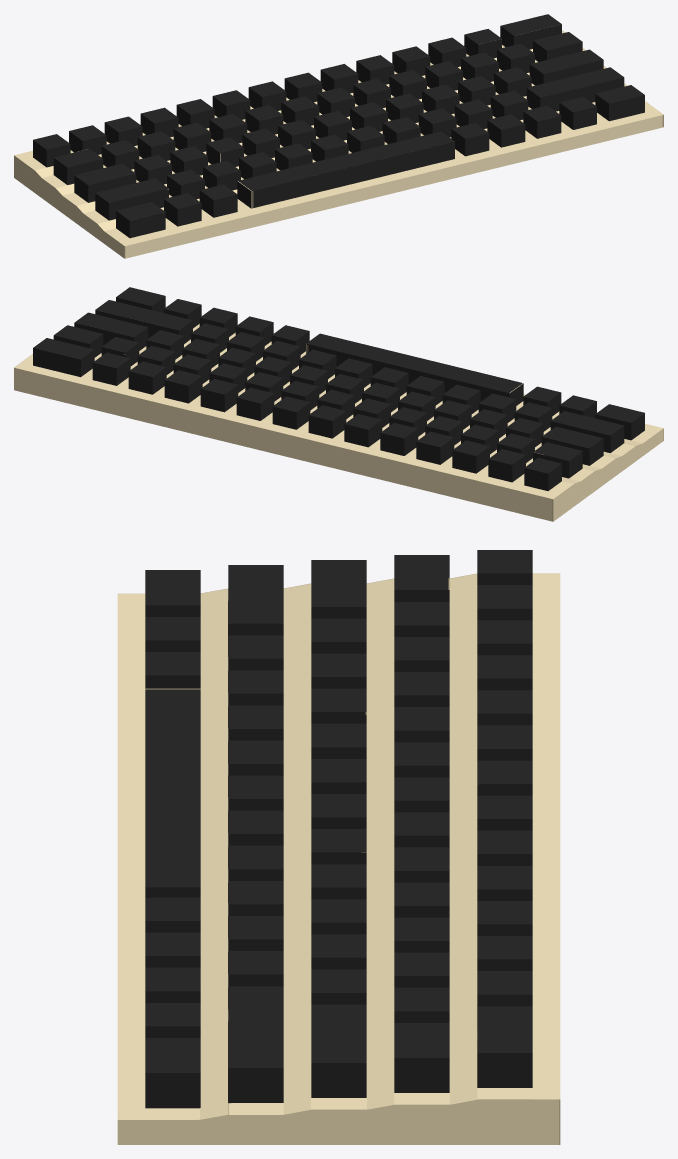
File: Keyboard.obj
The picture shows the model from 3 angles, top to bottom: view 1: azimuth 30°, elevation 25°; view 2: azimuth 150°, elevation 25°; view 3: azimuth 270°, elevation 25°; orthographic projection. The views are drawn at different scales.
Visible parts, largest first — view 1: Cube.002_Cube.000; view 2: Cube.002_Cube.000; view 3: Cube.002_Cube.000.
Part boxes in pixels (x1,y1,x2,y2): Cube.002_Cube.000: [14, 14, 663, 258]; Cube.002_Cube.000: [14, 287, 663, 521]; Cube.002_Cube.000: [117, 550, 560, 1144].
Size of the model in its own units: 1.8 by 0.128 by 0.64.
Materials: 2 (2 with a texture image).
